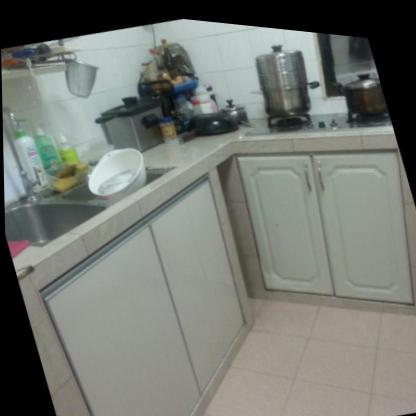Cabinet: (15, 153, 277, 416), (225, 106, 416, 335)
